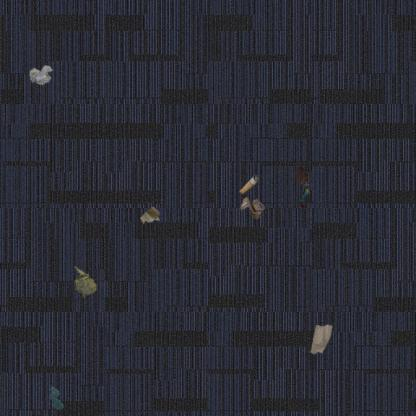dirty: (73, 266, 98, 300), (309, 323, 334, 355), (28, 64, 55, 87), (239, 196, 265, 219), (138, 204, 162, 226), (238, 173, 260, 196), (299, 183, 311, 208)
liquid: (47, 386, 65, 410), (294, 166, 312, 188)
